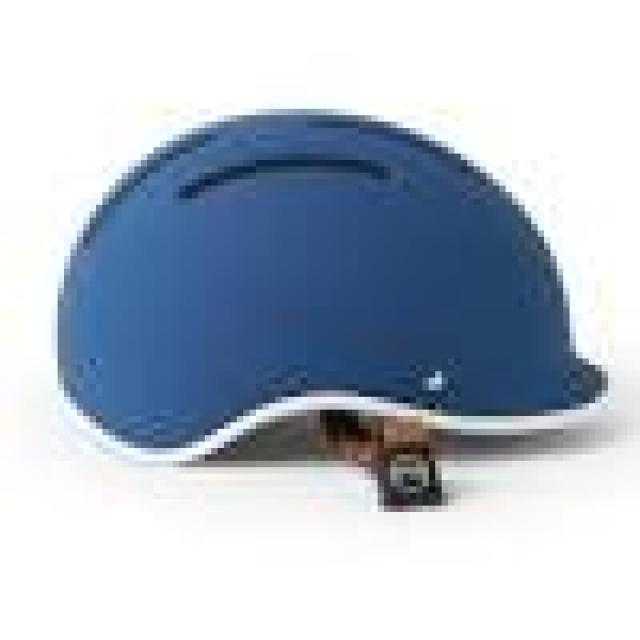Helmet: (55, 113, 615, 474)
